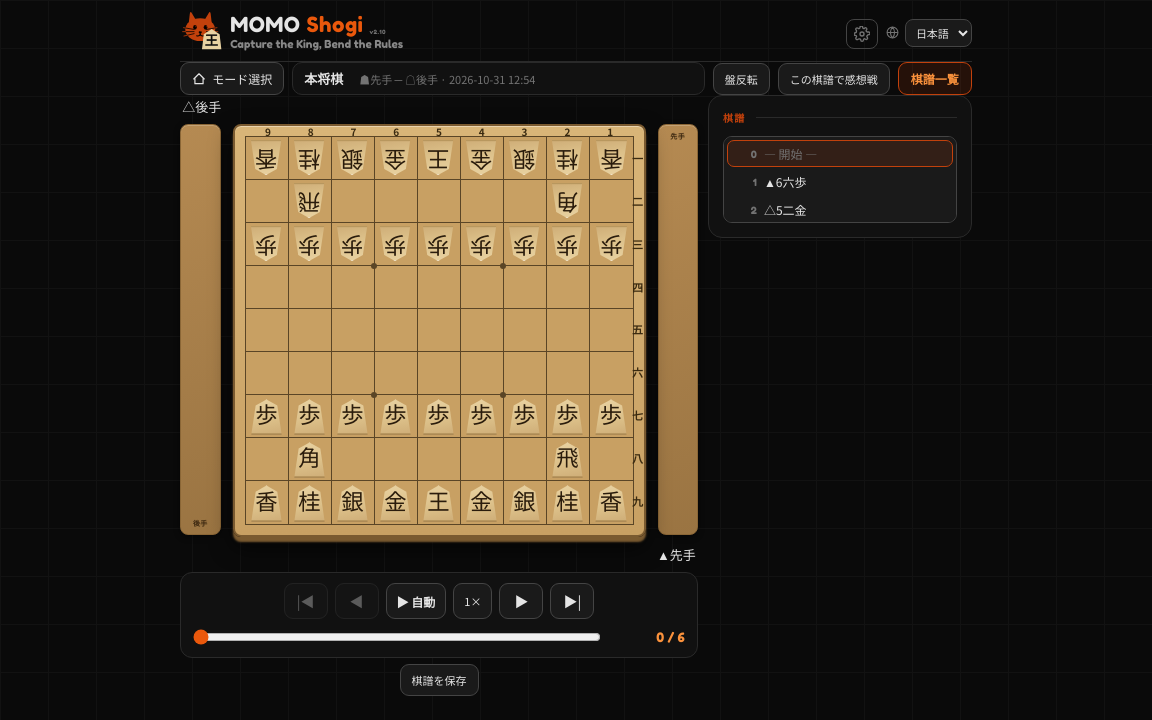
Scenario: S08 記憶している 1 局 › 保存済みなら「未保存」は出ない（保存ボタンは残る＝もう一度書き出せる）
Click the button "棋譜一覧": x=935, y=79 [898,62,972,95]
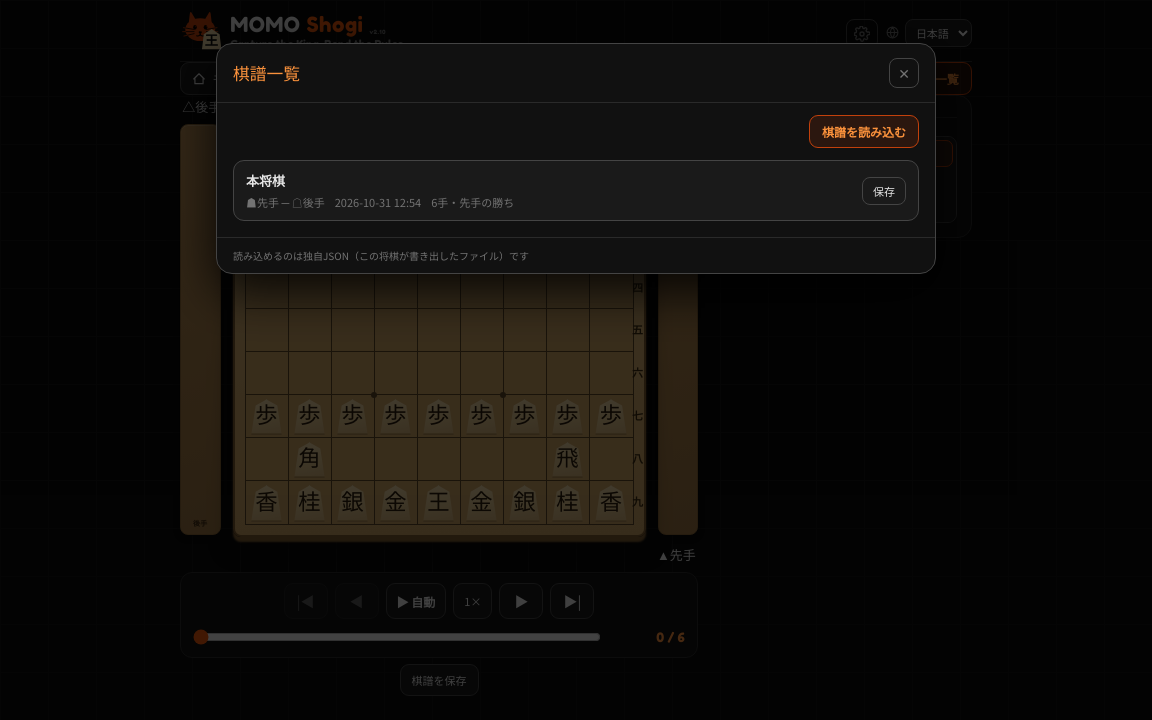
Result: the button "保存" is shown at [862,177,906,205]
